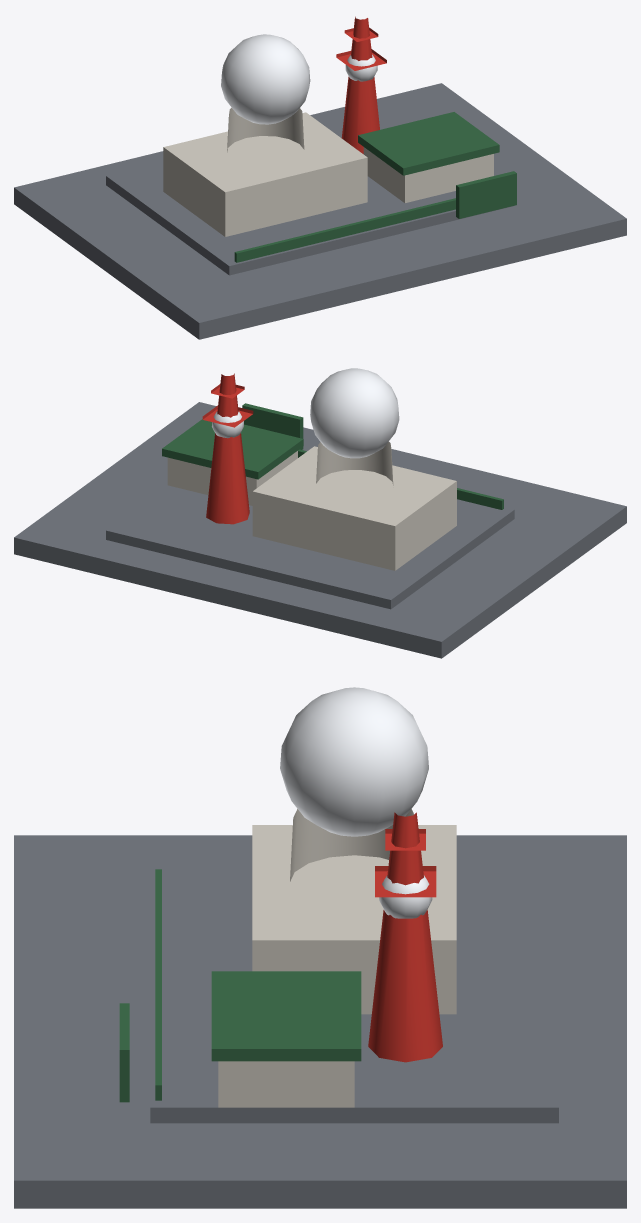
The model's file is lm_20_langbiang_radar_station.glb.
3 views of the same model, one above another, from view 1: azimuth 30°, elevation 25°; view 2: azimuth 150°, elevation 25°; view 3: azimuth 270°, elevation 25° (orthographic). The views are drawn at different scales.
Visible parts, largest first — view 1: Langbiang_Summit_Plaza, Radar_Control_Building, Panorama_Viewing_Deck, Geodesic_Radome_Domes, Telecom_Lattice_Tower; view 2: Langbiang_Summit_Plaza, Radar_Control_Building, Geodesic_Radome_Domes, Panorama_Viewing_Deck, Telecom_Lattice_Tower; view 3: Langbiang_Summit_Plaza, Radar_Control_Building, Geodesic_Radome_Domes, Panorama_Viewing_Deck, Telecom_Lattice_Tower.
Boxes of the visible parts, x1,y1,x2,y2 form: Langbiang_Summit_Plaza: (14, 83, 626, 339); Radar_Control_Building: (163, 107, 493, 236); Panorama_Viewing_Deck: (234, 112, 516, 262); Geodesic_Radome_Domes: (221, 34, 377, 124); Telecom_Lattice_Tower: (336, 16, 386, 153); Langbiang_Summit_Plaza: (14, 402, 626, 658); Radar_Control_Building: (167, 441, 456, 570); Geodesic_Radome_Domes: (212, 368, 399, 458); Panorama_Viewing_Deck: (162, 403, 503, 509); Telecom_Lattice_Tower: (202, 373, 253, 524); Langbiang_Summit_Plaza: (14, 835, 626, 1208); Radar_Control_Building: (218, 809, 456, 1107); Geodesic_Radome_Domes: (280, 687, 432, 918); Panorama_Viewing_Deck: (119, 869, 361, 1102); Telecom_Lattice_Tower: (368, 812, 442, 1062).
Size of the model in its own units: 48 by 19.82 by 36.
